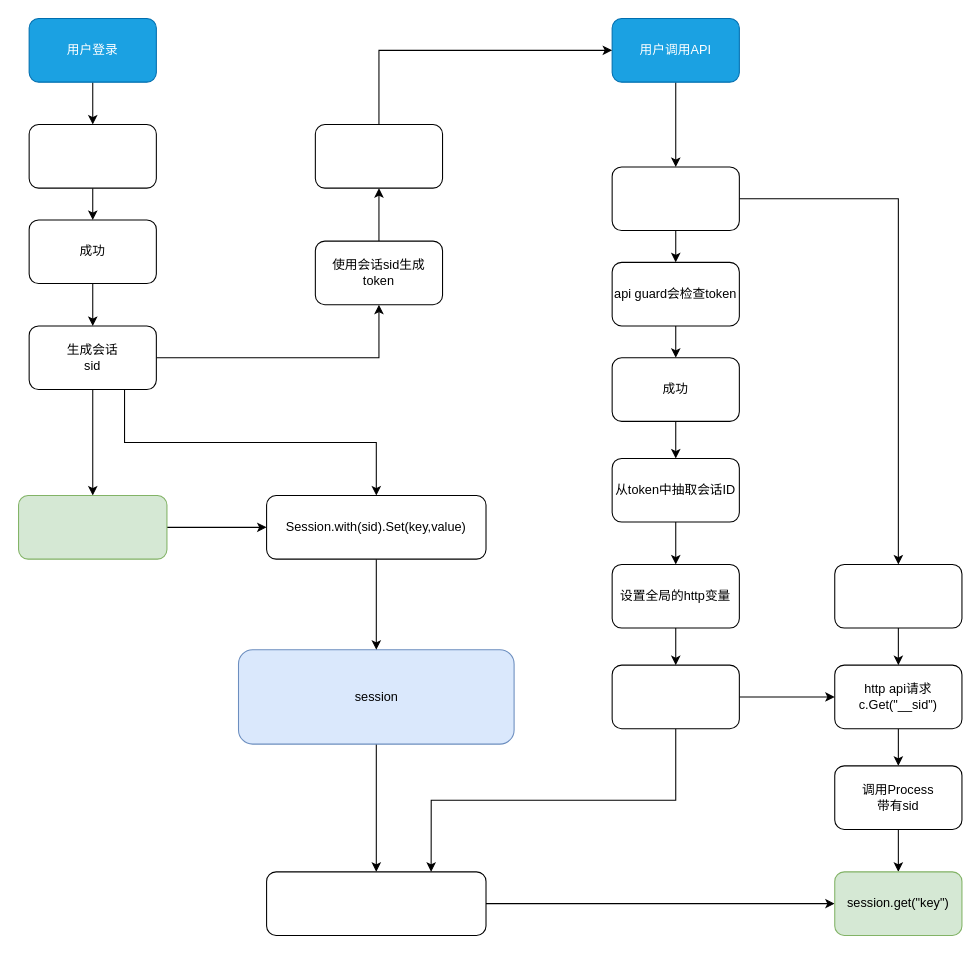
Image size: 980x954. Some labels were removed from this diagram. The shapes that lost their labels are listed below. From the top down, each one's centre as x and y in pixels, then its label:
pixel 92 155: 检查用户名密码
pixel 378 155: 返回token
pixel 675 198: jwt guard拦截
pixel 92 526: session.set("key",value)
pixel 898 595: api 请求
pixel 675 696: c.Set("__sid", claims.SID)
pixel 376 903: Session.with(sid).Get(key)
